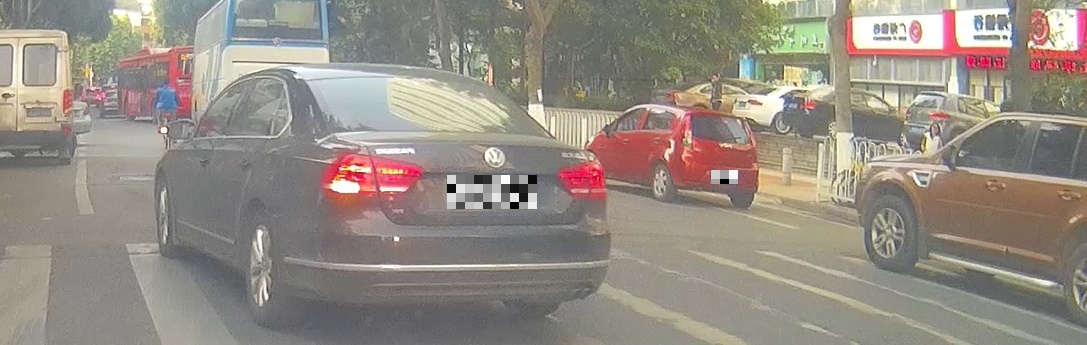L_light: (322, 152, 423, 199), (681, 138, 702, 153)
R_light: (556, 159, 608, 200), (747, 146, 758, 158)
T_light: (388, 69, 420, 81), (719, 112, 732, 117)
day-left: (292, 63, 610, 328)
day-no: (680, 108, 759, 210)
plate_1: (447, 175, 537, 209)
plate_2: (711, 170, 738, 184)
